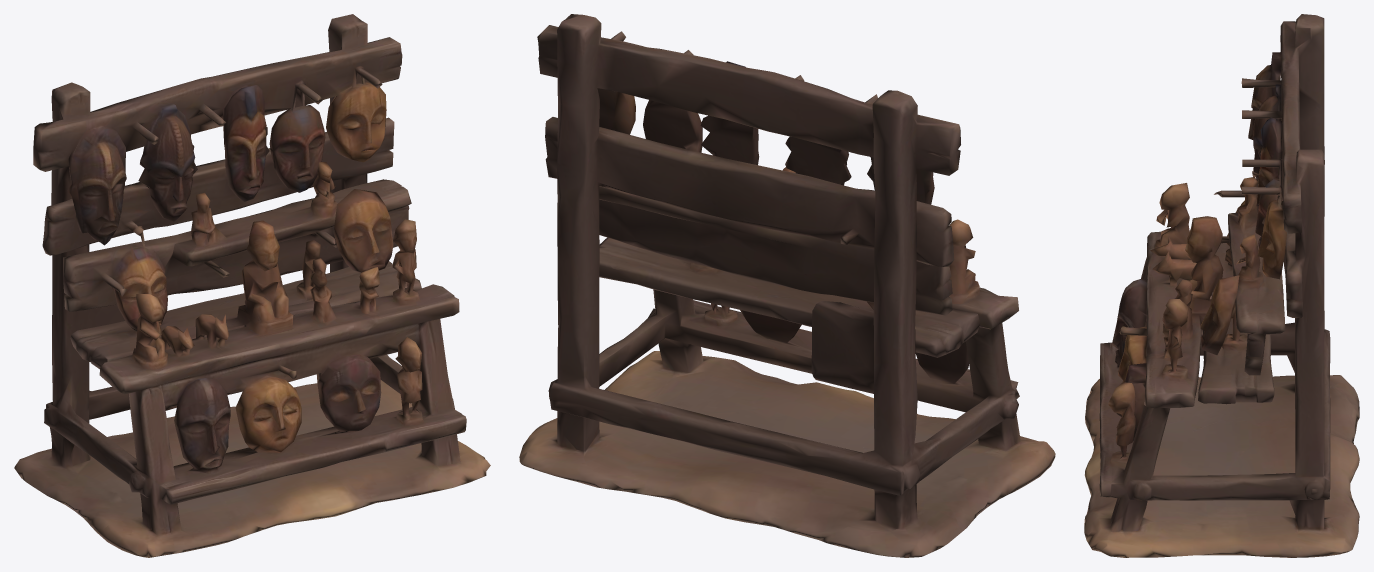
Rendered from craft_market_masks.glb.
3 renders of one model, left to right at view 1: azimuth 30°, elevation 25°; view 2: azimuth 150°, elevation 25°; view 3: azimuth 270°, elevation 25°, orthographic. The views are drawn at different scales.
Visible parts, largest first — view 1: tripo_node_ebf18653-4333-40f5-848c-32f17683d0cc; view 2: tripo_node_ebf18653-4333-40f5-848c-32f17683d0cc; view 3: tripo_node_ebf18653-4333-40f5-848c-32f17683d0cc.
Boxes of the visible parts, left/top/right/bottom form: tripo_node_ebf18653-4333-40f5-848c-32f17683d0cc: left=14, top=14, right=490, bottom=557; tripo_node_ebf18653-4333-40f5-848c-32f17683d0cc: left=519, top=14, right=1055, bottom=557; tripo_node_ebf18653-4333-40f5-848c-32f17683d0cc: left=1084, top=14, right=1359, bottom=557.
Size of the model in its own units: 1 by 0.9932 by 0.6488.
1 material, 1 textured.
